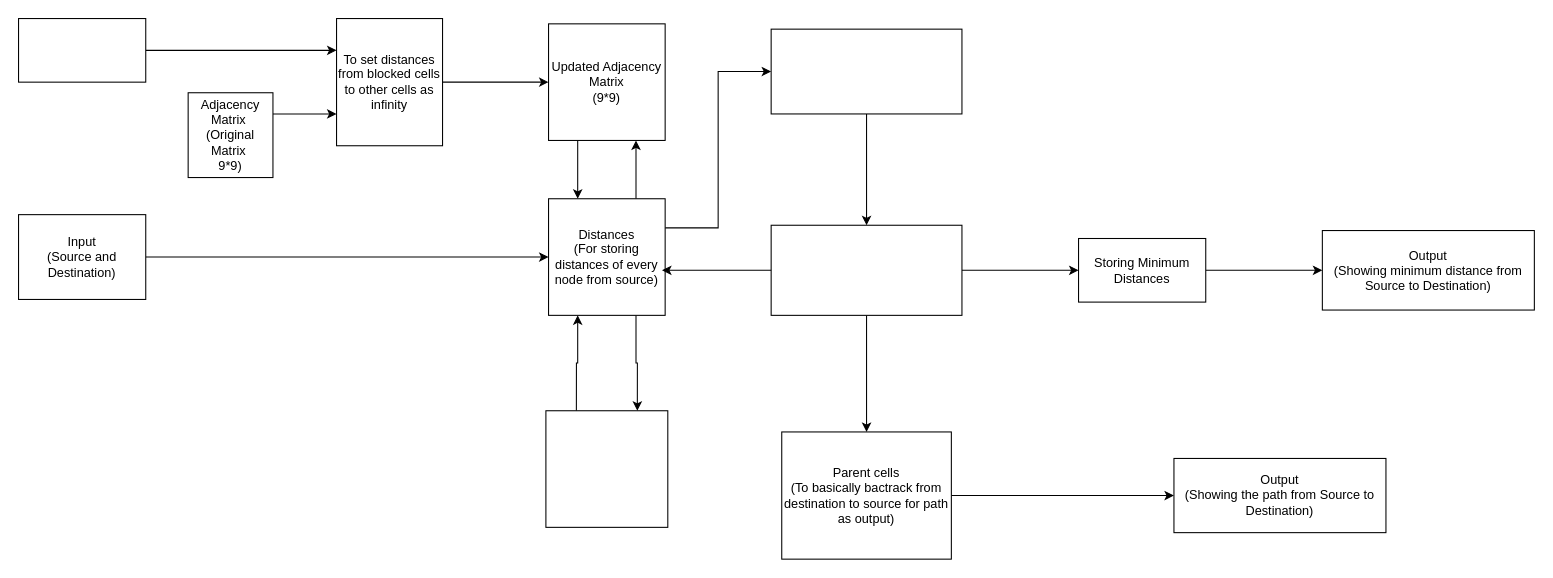
Some shapes in this 1553 by 578 pixel diagram are drawn without their labels. The box of each missing label's shape, as (x1, y1, x2, y2) in pixels:
Input (Nodes which are active): (17, 17, 146, 82)
To check for min distance: (770, 28, 962, 114)
Update current Node: (770, 224, 962, 315)
Visited cells (To check if the node is visited or not): (545, 410, 668, 527)
